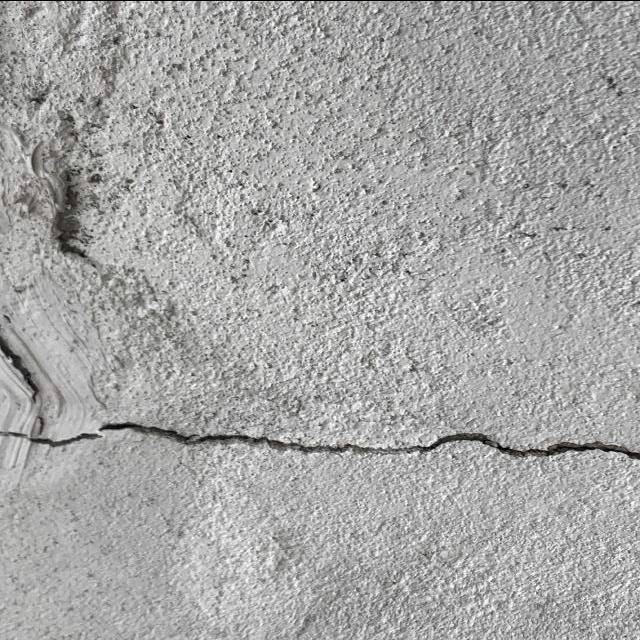SurfaceCrack: (0, 365, 639, 506)
